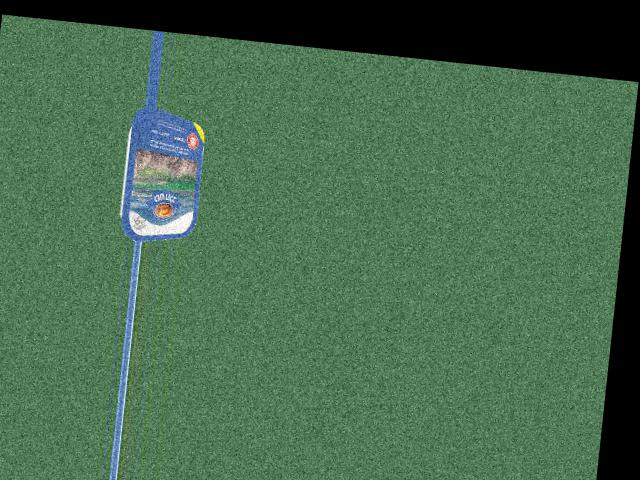cheese: (109, 118, 210, 237)
